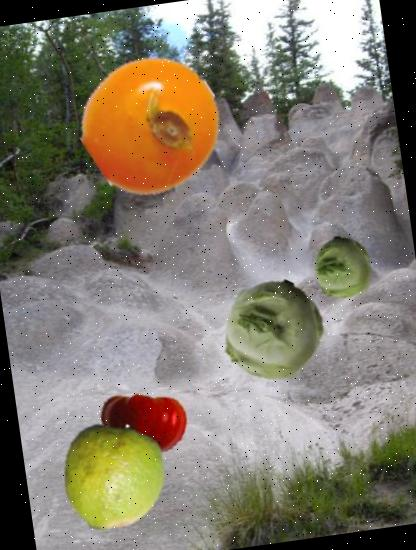Kohlrabi: (214, 272, 330, 387), (308, 232, 378, 303)
Limes: (50, 415, 174, 540)
Physalis: (74, 47, 230, 201)
Tomato: (94, 372, 192, 470)
